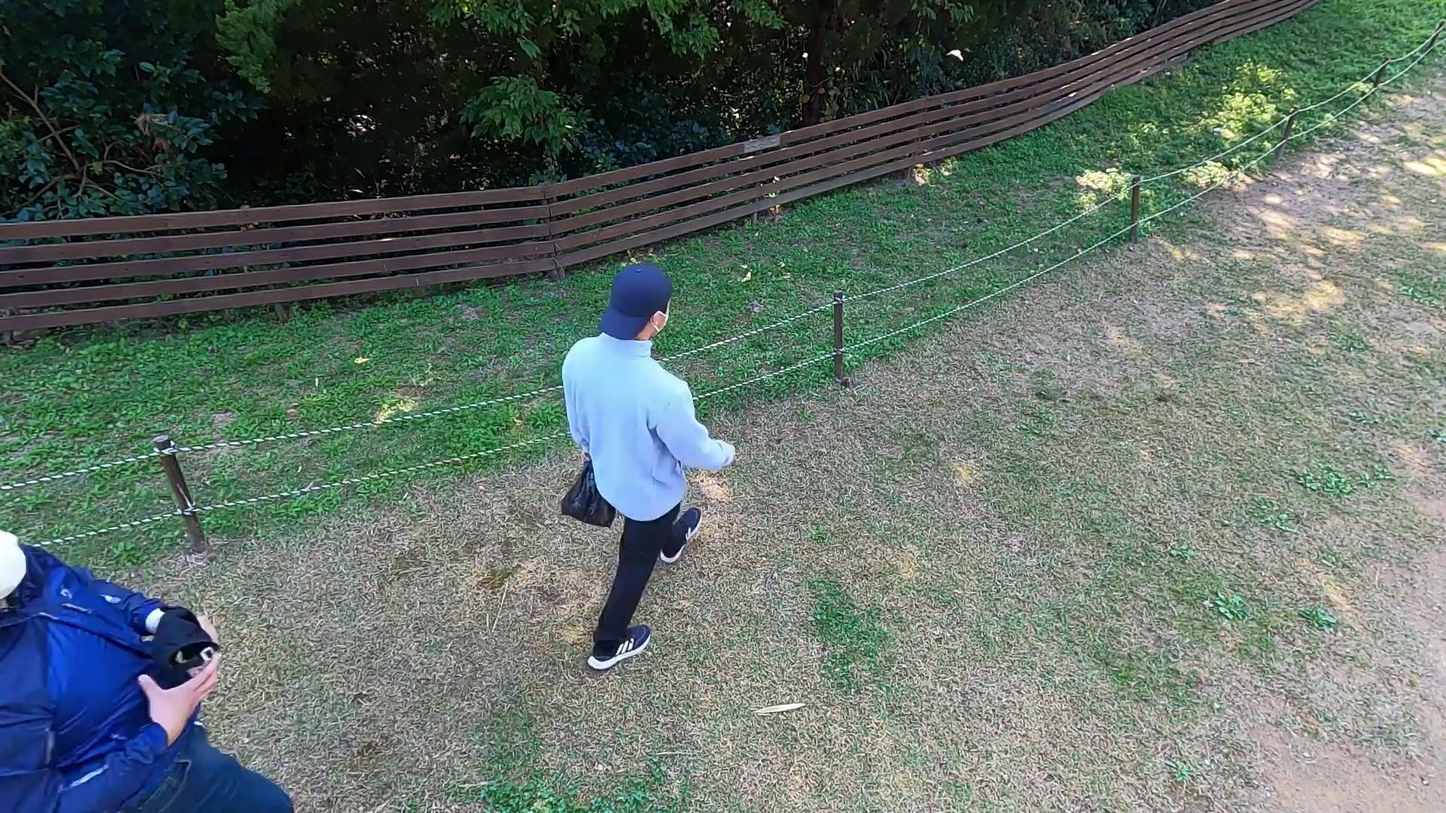person: (2, 525, 326, 813), (531, 265, 750, 680)
trash: (552, 457, 618, 526)
